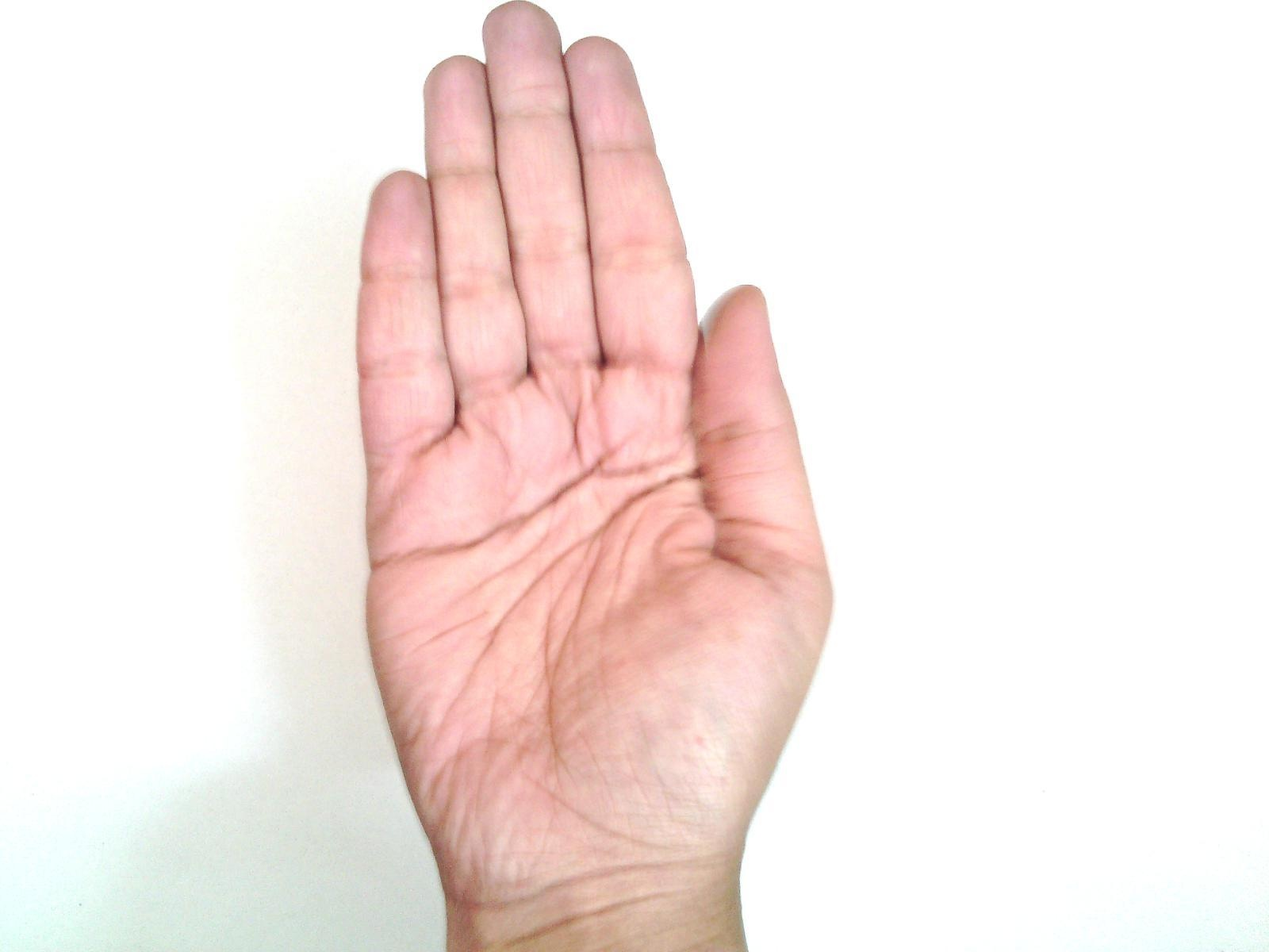open_palm: (352, 4, 833, 908)
